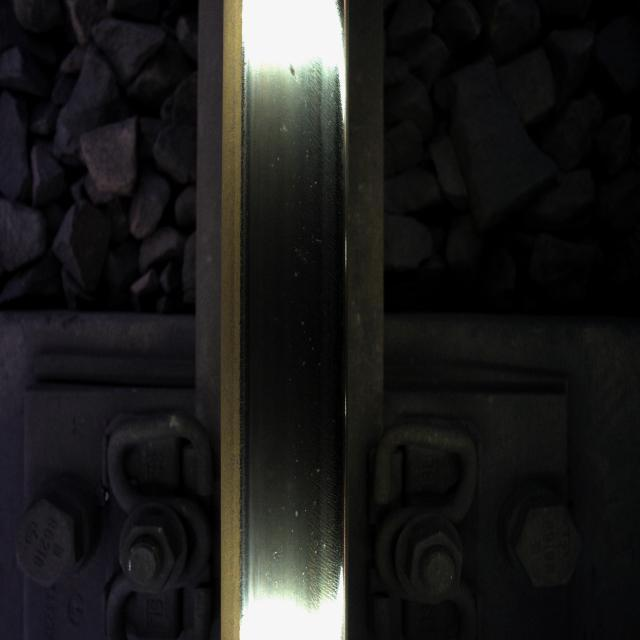break: (248, 46, 328, 580)
